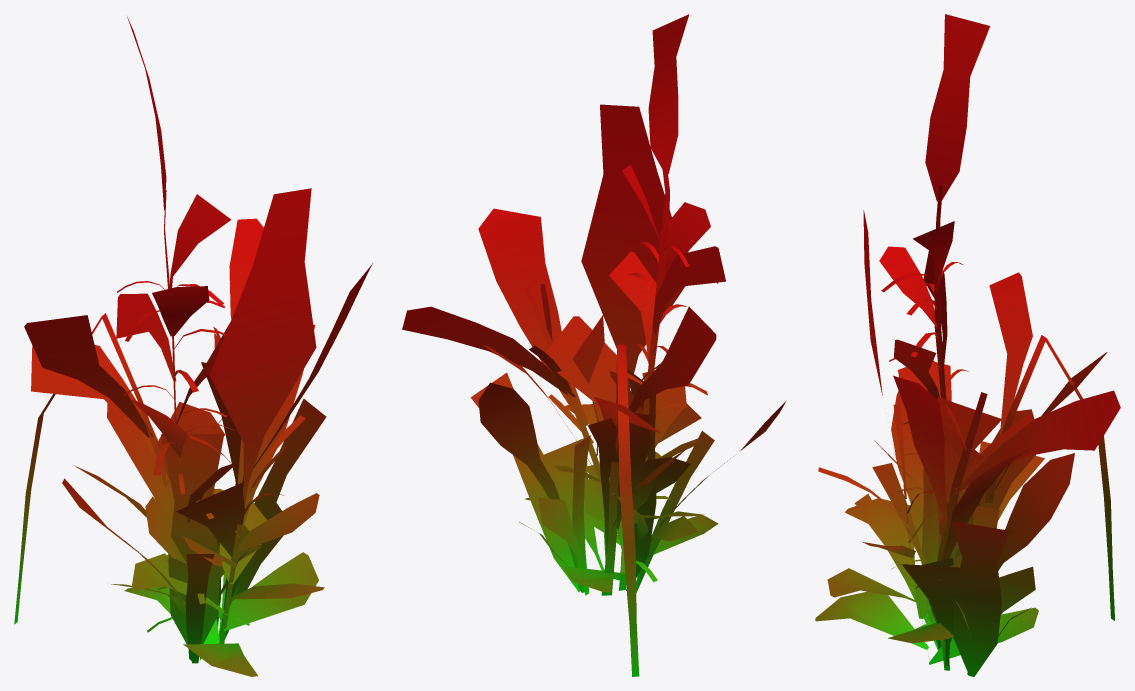
The model's file is Green Herb_LOD2_Var2_tbbpaier.fbx.
3 renders of one model, left to right at view 1: azimuth 30°, elevation 25°; view 2: azimuth 150°, elevation 25°; view 3: azimuth 270°, elevation 25°, orthographic. The views are drawn at different scales.
Visible parts, largest first — view 1: _1873_Var2_LOD2; view 2: _1873_Var2_LOD2; view 3: _1873_Var2_LOD2.
Part boxes in pixels (left/top/right/bottom): _1873_Var2_LOD2: left=14, top=16, right=372, bottom=676; _1873_Var2_LOD2: left=402, top=14, right=786, bottom=676; _1873_Var2_LOD2: left=815, top=14, right=1120, bottom=676.
Size of the model in its own units: 12.9 by 24.88 by 11.12.
